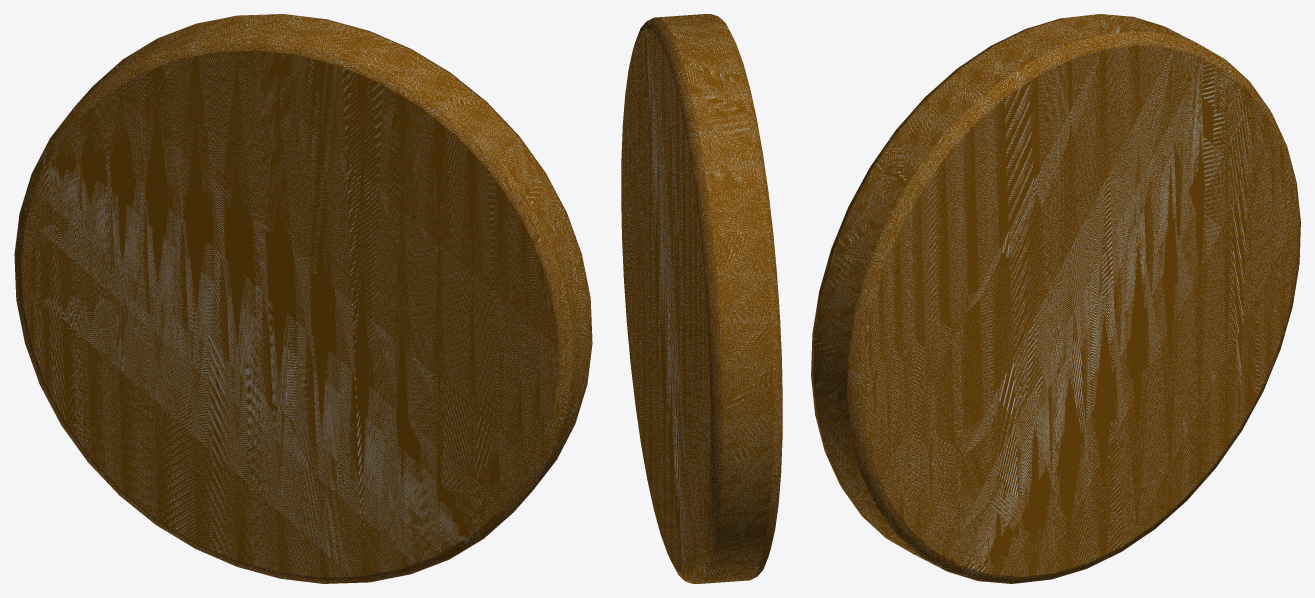
The model's file is original-2.obj.
3 views of the same model, side by side, from view 1: azimuth 30°, elevation 25°; view 2: azimuth 150°, elevation 25°; view 3: azimuth 270°, elevation 25° (orthographic). The views are drawn at different scales.
Parts seen in each view (by area): view 1: Component_5_1/Component_5/mesh1/mesh1-geometry#mesh1-geometry; view 2: Component_5_1/Component_5/mesh1/mesh1-geometry#mesh1-geometry; view 3: Component_5_1/Component_5/mesh1/mesh1-geometry#mesh1-geometry.
Boxes of the visible parts, bbox=[...] form: Component_5_1/Component_5/mesh1/mesh1-geometry#mesh1-geometry: bbox=[14, 14, 592, 583]; Component_5_1/Component_5/mesh1/mesh1-geometry#mesh1-geometry: bbox=[621, 14, 782, 583]; Component_5_1/Component_5/mesh1/mesh1-geometry#mesh1-geometry: bbox=[811, 14, 1300, 583].
Size of the model in its own units: 0.1553 by 0.2163 by 0.1813.
